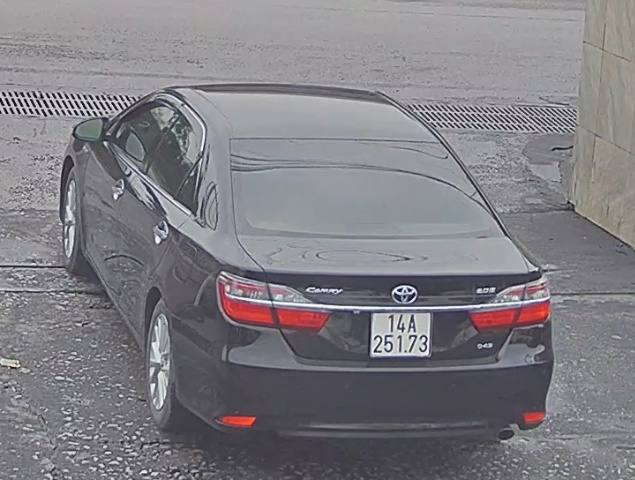vehicle plate: (363, 304, 438, 364)
